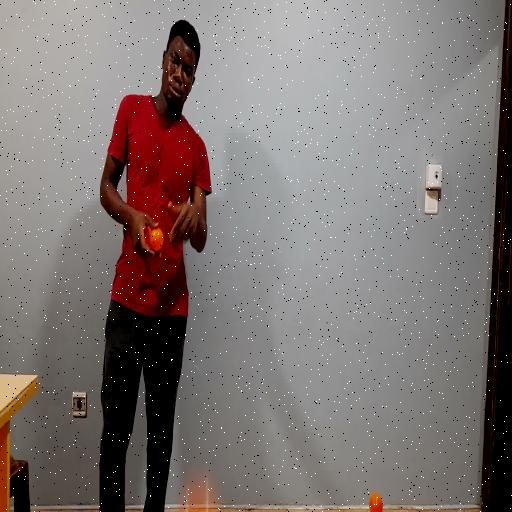plastic-ball: (171, 473, 226, 512)
